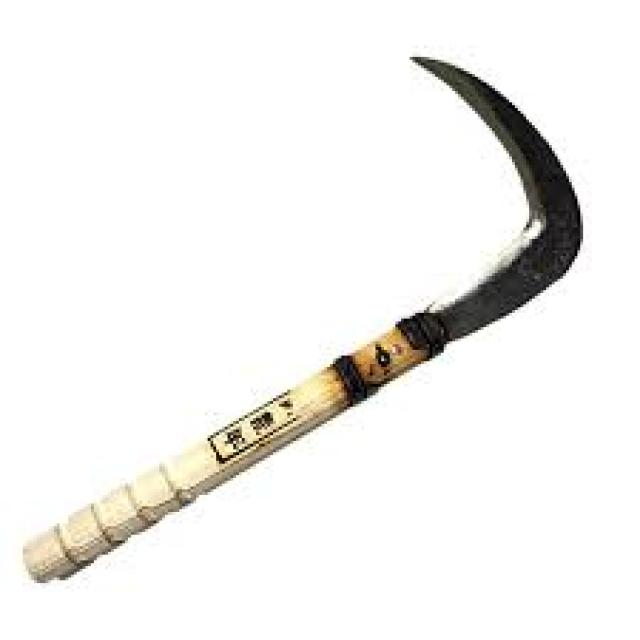sickle: (79, 54, 640, 640)
